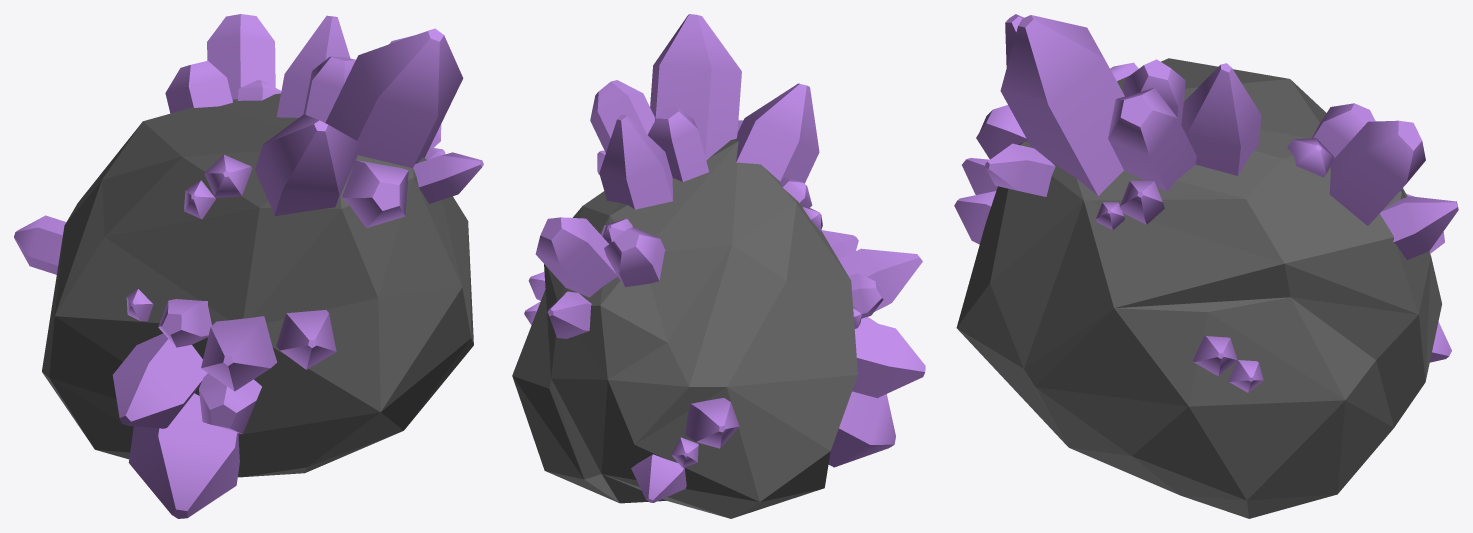
File: crystal_stone_1.fbx
3 views of the same model, side by side, from view 1: azimuth 30°, elevation 25°; view 2: azimuth 150°, elevation 25°; view 3: azimuth 270°, elevation 25° (orthographic). The views are drawn at different scales.
Visible parts, largest first — view 1: Rock, pCube36, pCube42, pCube44, pCube46, pCube45, pCube53, pCube43, pCube33, pCube50, pCube52, pCube41 (+8 smaller); view 2: Rock, pCube36, pCube44, pCube33, pCube53, pCube46, pCube42, pCube37, pCube52, pCube45, pCube34, pCube58 (+6 smaller); view 3: Rock, pCube36, pCube53, pCube33, pCube34, pCube57, pCube35, pCube37, pCube52, pCube43, pCube56, pCube50 (+5 smaller).
Part boxes in pixels (<box>): Rock: <box>42,93,473,477</box>; pCube36: <box>325,28,463,168</box>; pCube42: <box>128,393,239,518</box>; pCube44: <box>255,114,361,216</box>; pCube46: <box>112,333,207,428</box>; pCube45: <box>201,316,277,391</box>; pCube53: <box>207,14,275,99</box>; pCube43: <box>342,160,408,227</box>; pCube33: <box>276,15,350,117</box>; pCube50: <box>276,310,336,369</box>; pCube52: <box>165,61,233,113</box>; pCube41: <box>199,373,261,434</box>; Rock: <box>512,139,857,518</box>; pCube36: <box>650,14,741,160</box>; pCube44: <box>736,83,819,183</box>; pCube33: <box>599,115,672,209</box>; pCube53: <box>535,217,617,297</box>; pCube46: <box>852,319,925,398</box>; pCube42: <box>828,391,895,467</box>; pCube37: <box>648,107,709,181</box>; pCube52: <box>604,227,665,286</box>; pCube45: <box>839,248,922,311</box>; pCube34: <box>590,80,654,152</box>; pCube58: <box>685,398,739,448</box>; Rock: <box>956,58,1441,518</box>; pCube36: <box>1000,15,1124,196</box>; pCube53: <box>1329,120,1425,225</box>; pCube33: <box>1181,63,1261,175</box>; pCube34: <box>1108,88,1196,191</box>; pCube57: <box>1380,196,1458,259</box>; pCube35: <box>985,143,1055,196</box>; pCube37: <box>1123,59,1185,124</box>; pCube52: <box>1312,103,1375,158</box>; pCube43: <box>976,105,1027,159</box>; pCube56: <box>1119,180,1164,224</box>; pCube50: <box>954,191,996,244</box>.
Bounding box in the file's own units: 3.09 × 3.59 × 3.23.
